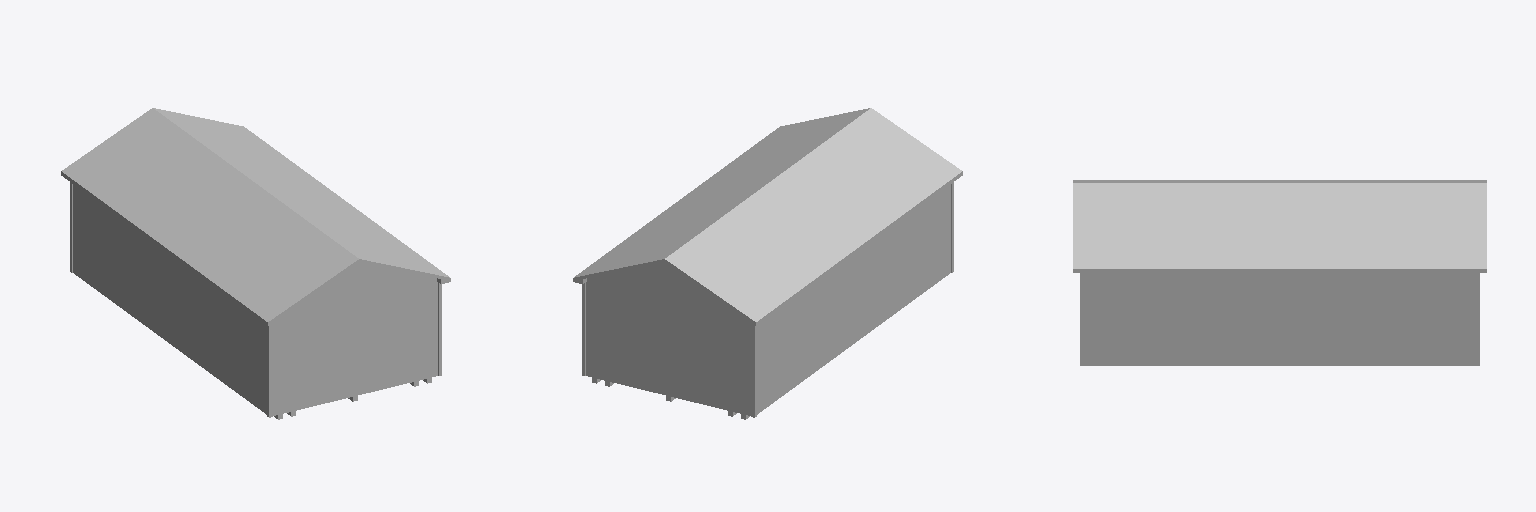
Rendered from Classic A-Frame_12x24.obj.
The picture shows the model from 3 angles: view 1: azimuth 30°, elevation 25°; view 2: azimuth 150°, elevation 25°; view 3: azimuth 270°, elevation 25°; orthographic projection.
Parts seen in each view (by area): view 1: Classic A-Frame_12x24.obj; view 2: Classic A-Frame_12x24.obj; view 3: Classic A-Frame_12x24.obj.
Part boxes in pixels (bbox=[...]): Classic A-Frame_12x24.obj: bbox=[61, 108, 450, 419]; Classic A-Frame_12x24.obj: bbox=[573, 108, 962, 419]; Classic A-Frame_12x24.obj: bbox=[1073, 180, 1486, 365].
Size of the model in its own units: 3.9 by 2.96 by 7.62.